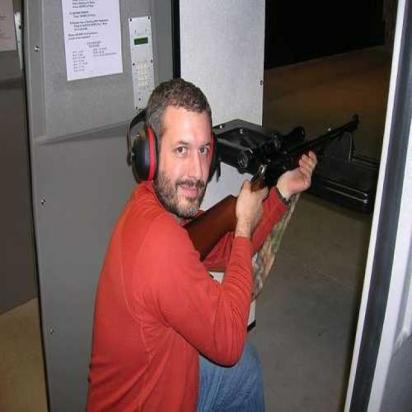Gun: (174, 112, 363, 258)
